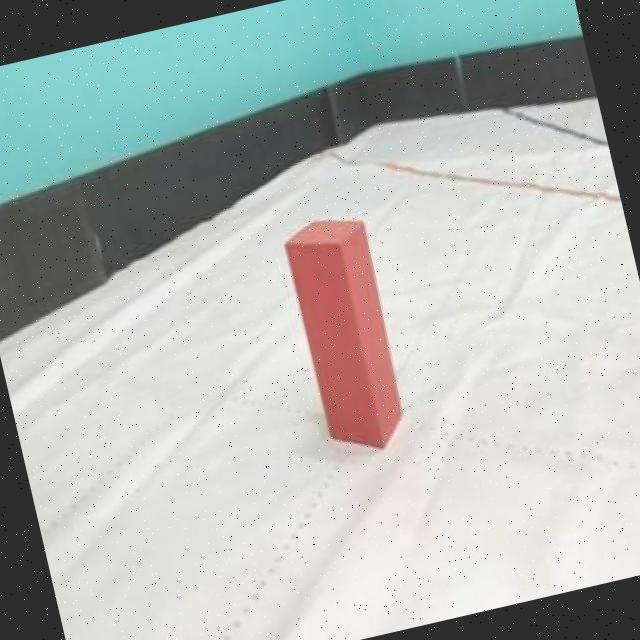redbox: (278, 208, 416, 460)
